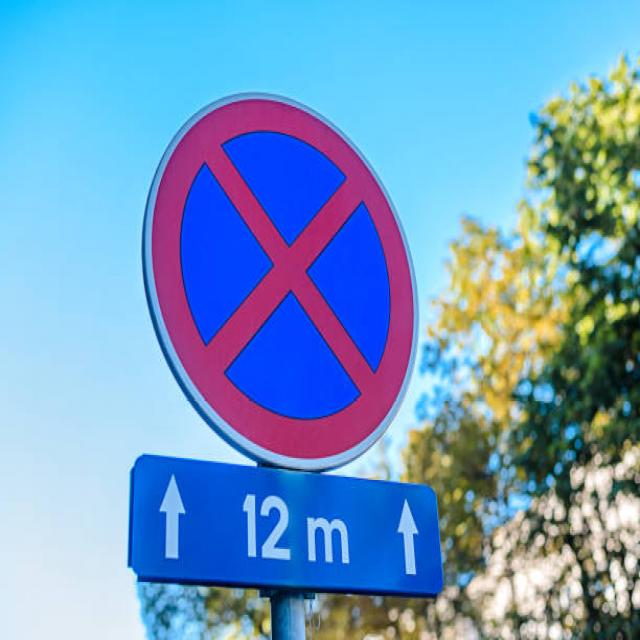no_parking: (136, 80, 417, 476)
